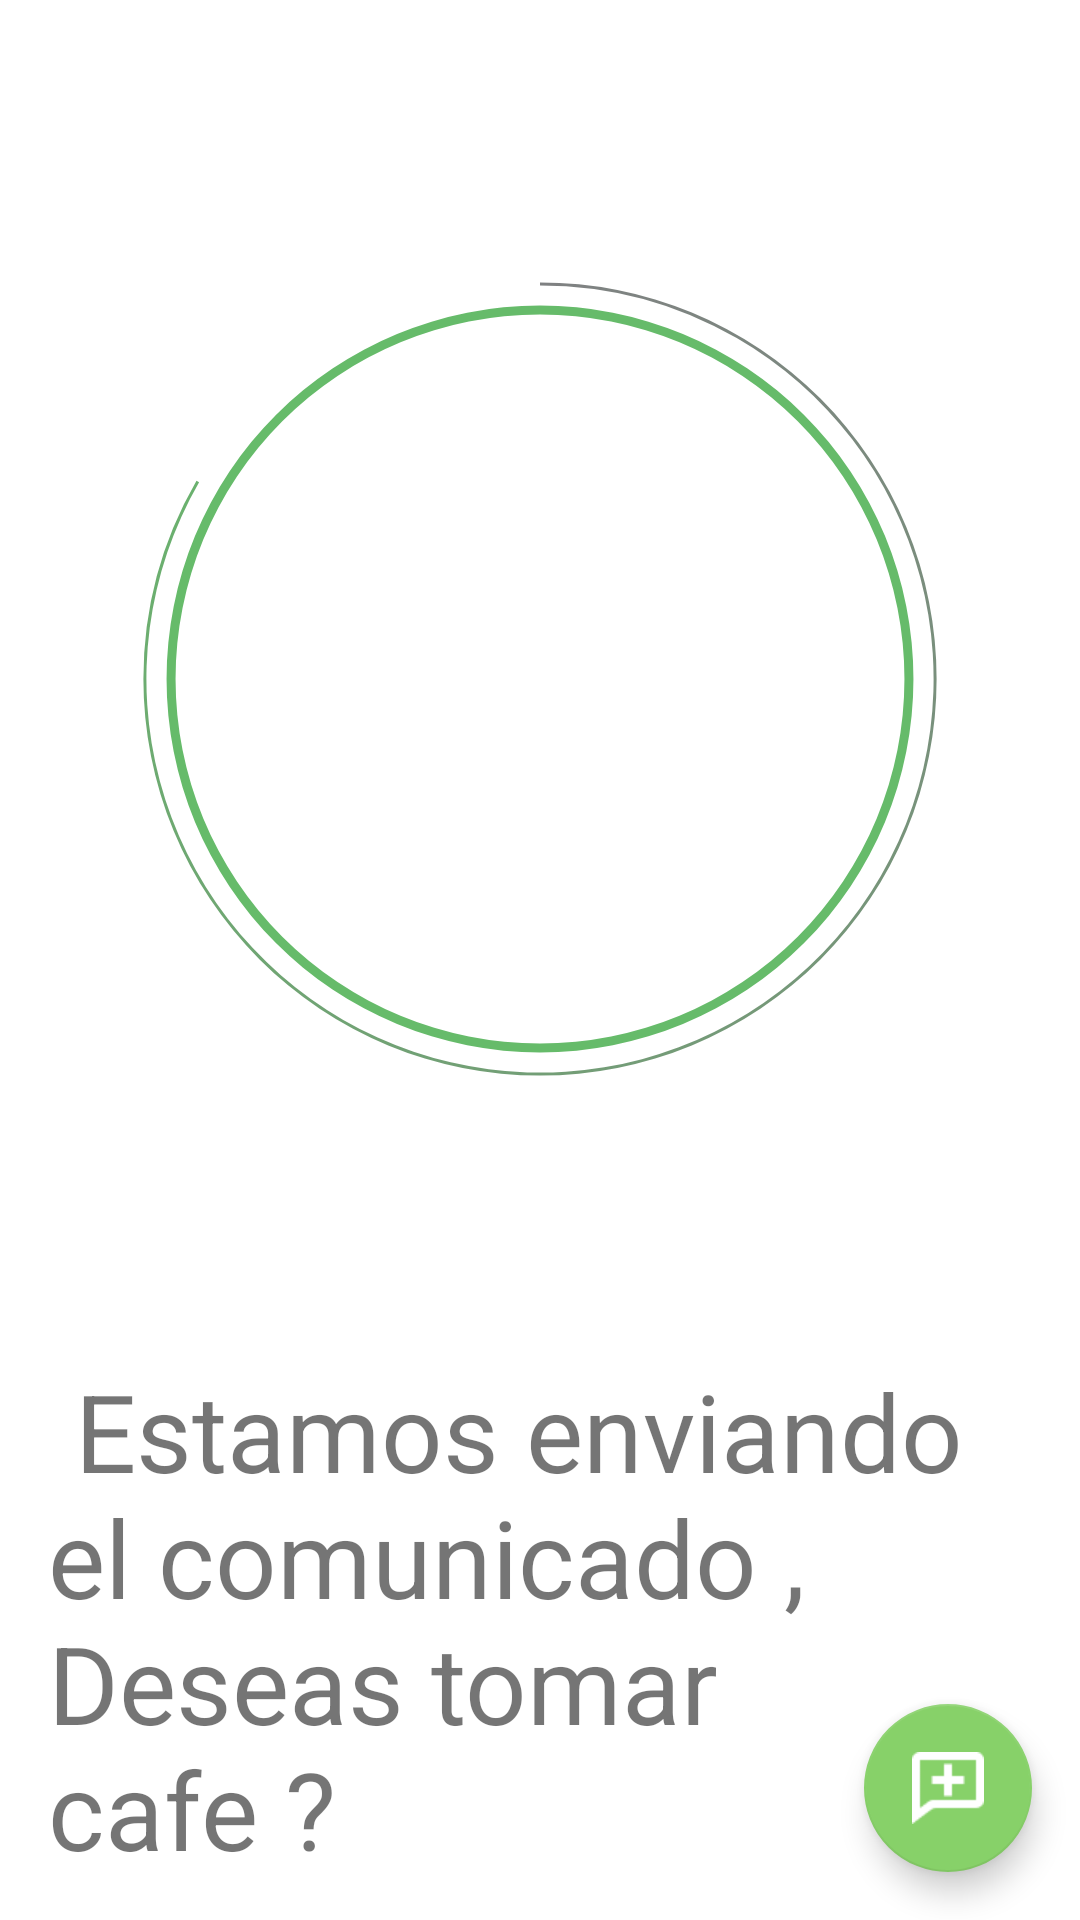

Screen size 1080 x 1920. Icon name, then its center in pixels as (x=x, y=y):
Mensaje nuevo: (x=948, y=1788)
